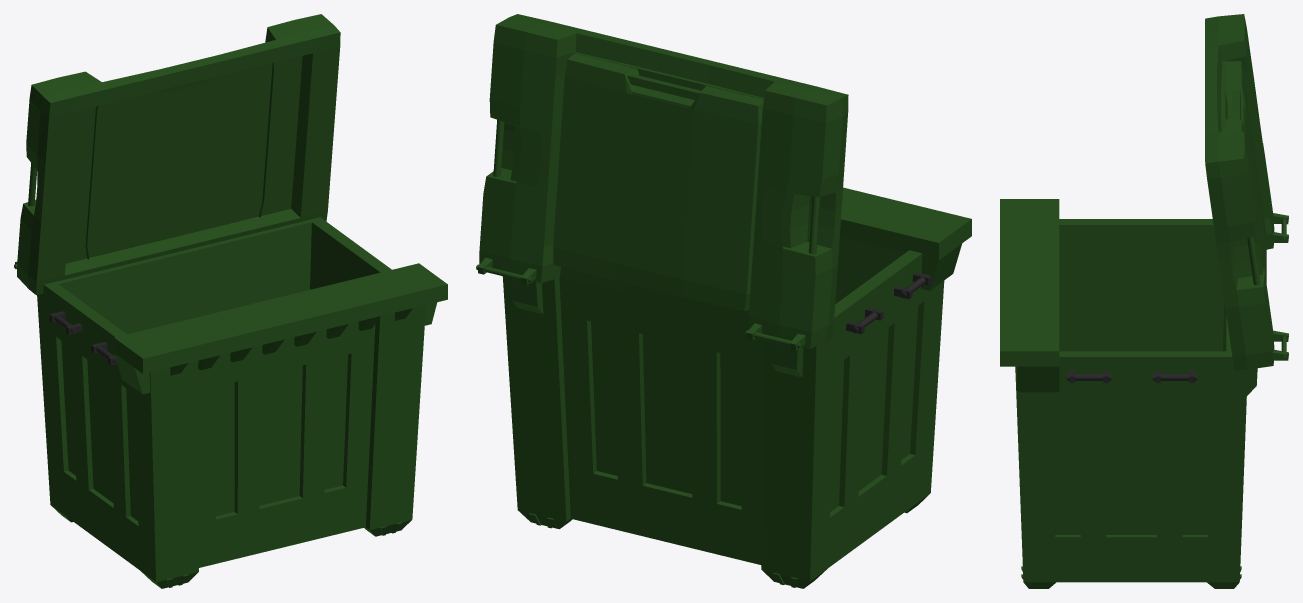
File: tdm_bin.gltf
The picture shows the model from 3 angles, left to right: view 1: azimuth 30°, elevation 25°; view 2: azimuth 150°, elevation 25°; view 3: azimuth 270°, elevation 25°; orthographic projection. The views are drawn at different scales.
Parts seen in each view (by area): view 1: Body, Lid, Handles; view 2: Body, Lid, Handles; view 3: Body, Lid, Handles.
Boxes of the visible parts, x1,y1,x2,y2 form: Body: [37, 217, 447, 588]; Lid: [14, 14, 340, 295]; Handles: [49, 311, 117, 365]; Body: [502, 187, 971, 588]; Lid: [476, 14, 848, 350]; Handles: [846, 272, 931, 334]; Body: [1000, 199, 1257, 588]; Lid: [1205, 14, 1288, 370]; Handles: [1067, 370, 1196, 382].
Bounding box in the file's own units: 2.13 × 2.89 × 1.71.
